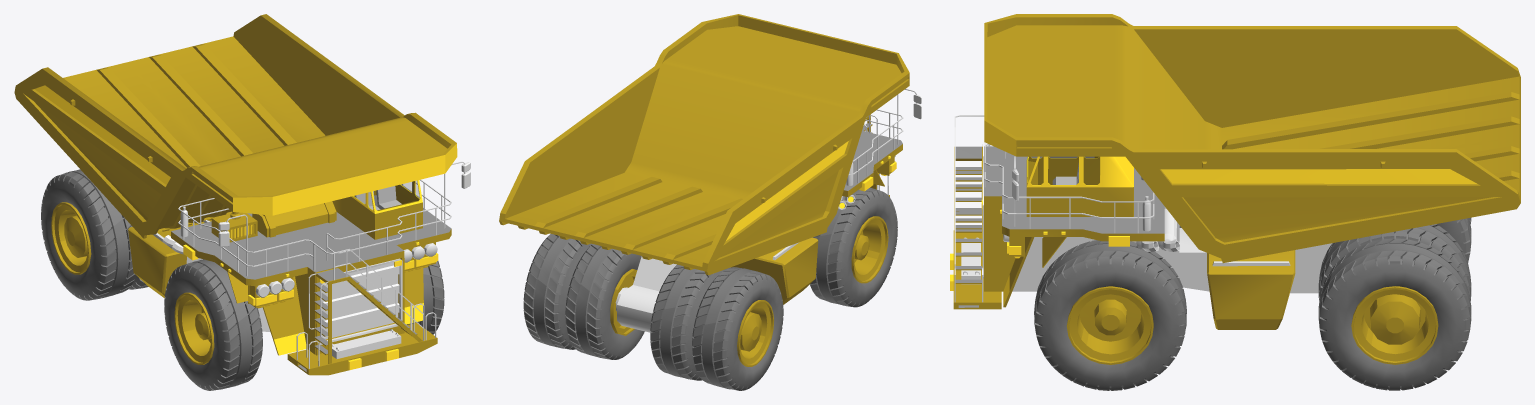
3 views of the same model, side by side, from view 1: azimuth 30°, elevation 25°; view 2: azimuth 150°, elevation 25°; view 3: azimuth 270°, elevation 25° (orthographic). The views are drawn at different scales.
Visible parts, largest first — view 1: Body, Tires, Platform, Trim, Part05, Chassis, SeatsLights, Windows; view 2: Body, Tires, Chassis, Trim, Platform, Part05; view 3: Body, Tires, Trim, Platform, Chassis, Part05, Windows.
Part boxes in pixels (x1,y1,x2,y2): Body: (14,14,456,375); Tires: (41,169,444,390); Platform: (171,184,451,371); Trim: (35,85,457,370); Part05: (153,161,470,368); Chassis: (162,235,401,358); SeatsLights: (255,186,437,297); Windows: (354,181,419,210); Body: (499,14,909,366); Tires: (523,187,897,390); Chassis: (615,195,855,332); Trim: (726,141,896,240); Platform: (844,116,902,190); Part05: (772,89,921,260); Body: (953,14,1520,364); Tires: (1034,217,1471,390); Trim: (950,120,1476,306); Platform: (955,146,1164,307); Chassis: (961,207,1331,293); Part05: (954,115,1290,302); Windows: (1028,157,1099,184).
Size of the model in its own units: 246 by 211 by 420.
